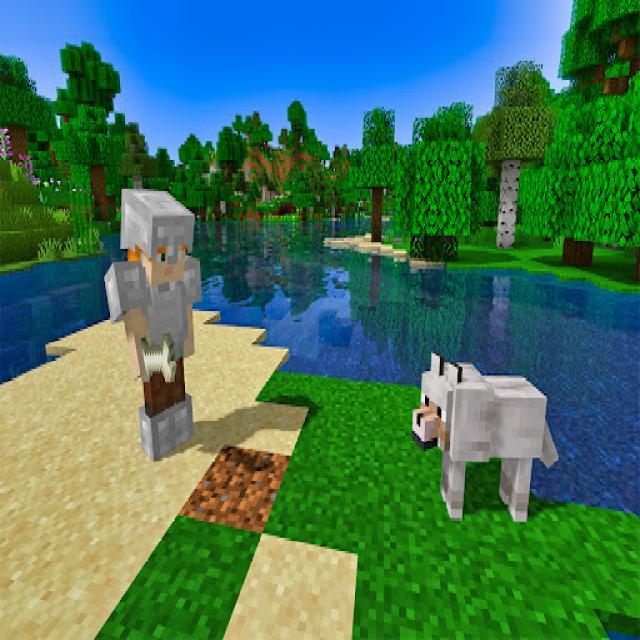Wolf: (411, 356, 559, 520)
